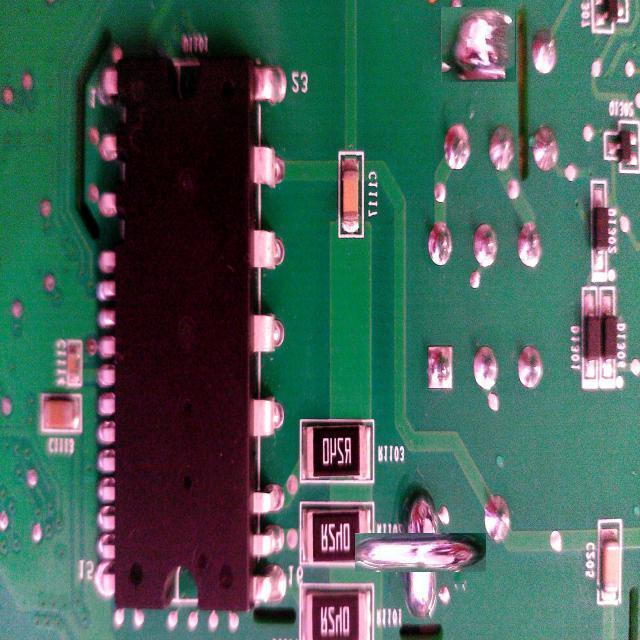Short_circuit: (378, 510, 463, 595), (441, 8, 516, 82)
